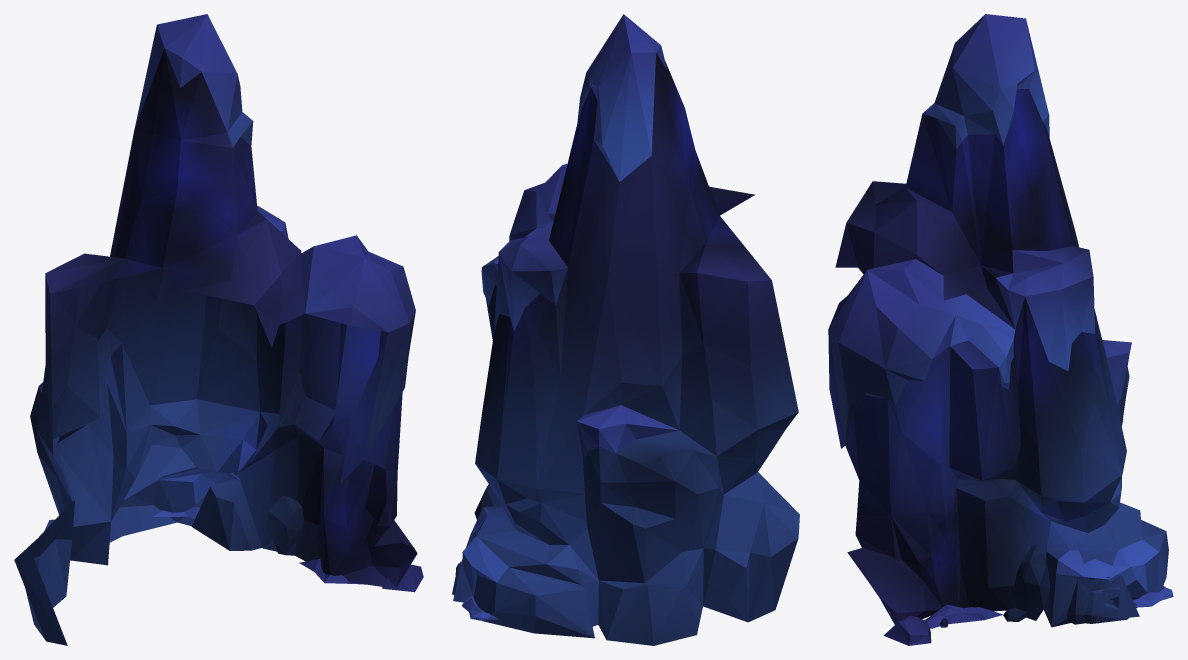
The model's file is Terrain_Mountain_4.fbx.
3 renders of one model, left to right at view 1: azimuth 30°, elevation 25°; view 2: azimuth 150°, elevation 25°; view 3: azimuth 270°, elevation 25°, orthographic. The views are drawn at different scales.
Visible parts, largest first — view 1: terrain_mountain_307_1; view 2: terrain_mountain_307_1; view 3: terrain_mountain_307_1.
Part boxes in pixels (x1=…): terrain_mountain_307_1: x1=14, y1=14, x2=423, y2=645; terrain_mountain_307_1: x1=452, y1=14, x2=799, y2=645; terrain_mountain_307_1: x1=828, y1=14, x2=1173, y2=645.
Size of the model in its own units: 313 by 483 by 269.
1 material, 1 textured.
